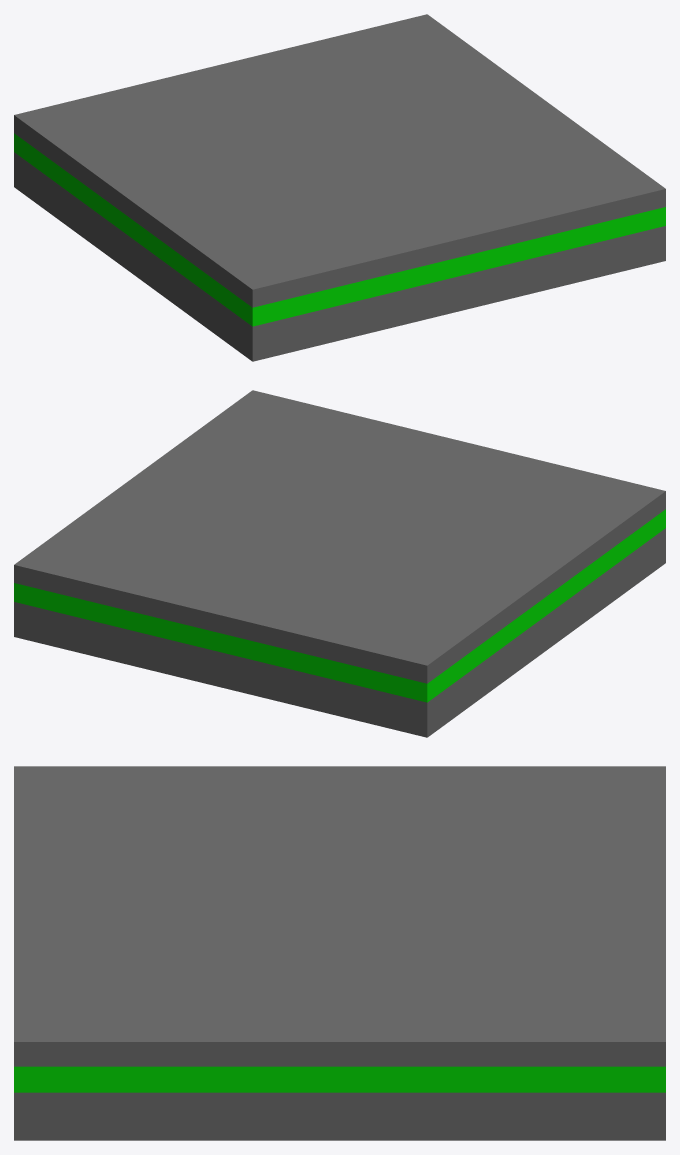
Rendered from Sm_SquarePlatform1.fbx.
3 renders of one model, top to bottom at view 1: azimuth 30°, elevation 25°; view 2: azimuth 150°, elevation 25°; view 3: azimuth 270°, elevation 25°, orthographic. The views are drawn at different scales.
Parts seen in each view (by area): view 1: pCube1; view 2: pCube1; view 3: pCube1.
Boxes of the visible parts, x1,y1,x2,y2 form: pCube1: [14, 14, 665, 361]; pCube1: [14, 390, 665, 737]; pCube1: [14, 766, 665, 1140].
Size of the model in its own units: 150 by 25 by 150.
